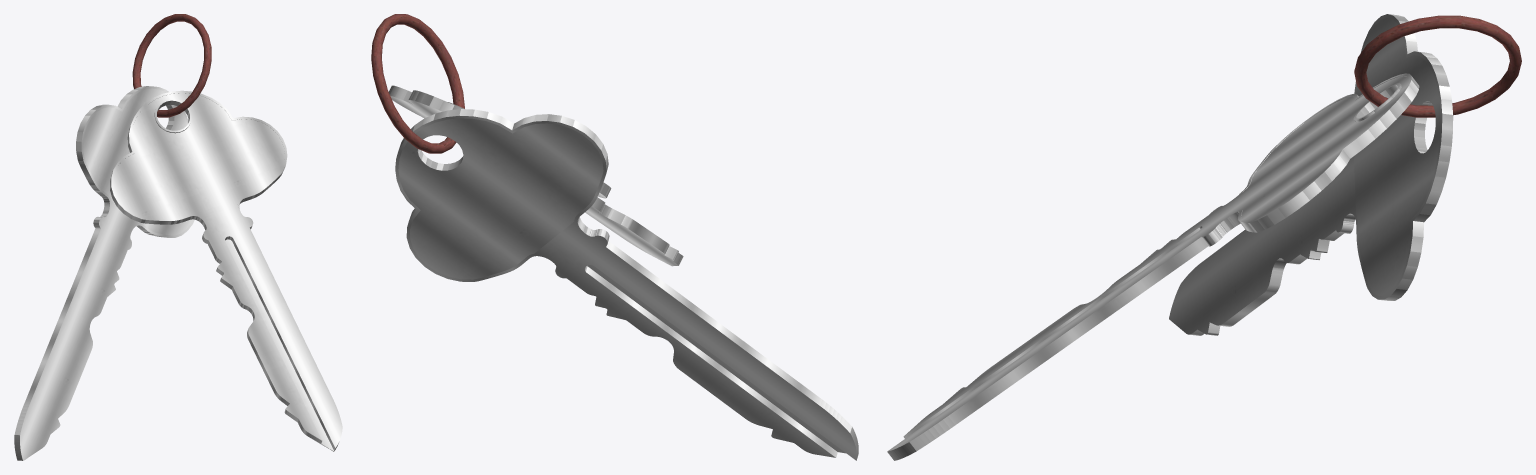
3 views of the same model, side by side, from view 1: azimuth 30°, elevation 25°; view 2: azimuth 150°, elevation 25°; view 3: azimuth 270°, elevation 25° (orthographic). The views are drawn at different scales.
Parts seen in each view (by area): view 1: group_1, group_4, group_5, SketchUp; view 2: group_4 (×2), SketchUp, group_1; view 3: group_1, group_4, group_5, SketchUp.
Part boxes in pixels (x1,y1,x2,y2): group_1: (110,90,342,451); group_4: (14,86,194,460); group_5: (83,88,192,235); SketchUp: (132,14,211,117); group_4 (×2): (395,109,858,460); SketchUp: (371,14,464,153); group_1: (389,85,683,266); group_1: (887,73,1419,460); group_4: (1169,14,1453,335); group_5: (1354,18,1440,295); SketchUp: (1354,15,1521,117).
Bounding box in the file's own units: 85.36 × 98.69 × 86.05.
Materials: 2 (2 with a texture image).
